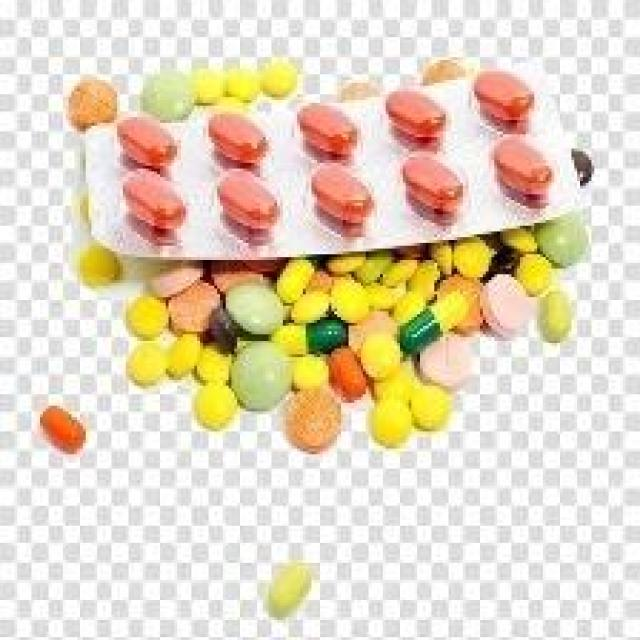Medicine: (35, 53, 640, 461), (255, 551, 321, 620)
